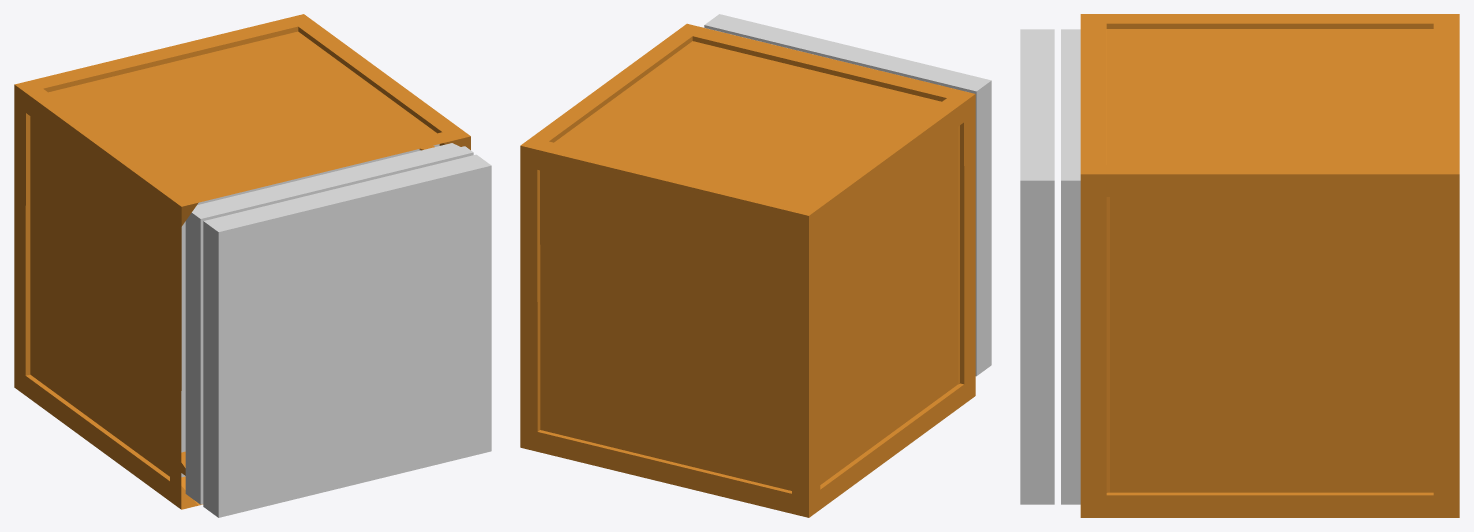
File: glas.gltf
The picture shows the model from 3 angles, left to right: view 1: azimuth 30°, elevation 25°; view 2: azimuth 150°, elevation 25°; view 3: azimuth 270°, elevation 25°; orthographic projection. The views are drawn at different scales.
Parts seen in each view (by area): view 1: Crate, Cube.001, Cube.002, Cube.003; view 2: Crate, Cube.001; view 3: Crate, Cube.001, Cube.002.
Boxes of the visible parts, bbox=[...] form: Crate: bbox=[14, 14, 470, 509]; Cube.001: bbox=[203, 154, 491, 517]; Cube.002: bbox=[185, 143, 473, 504]; Cube.003: bbox=[181, 144, 439, 477]; Crate: bbox=[520, 23, 975, 517]; Cube.001: bbox=[704, 14, 991, 376]; Crate: bbox=[1080, 14, 1459, 517]; Cube.001: bbox=[1020, 29, 1054, 504]; Cube.002: bbox=[1061, 29, 1080, 504].
Bounding box in the file's own units: 0.3001 × 0.3001 × 0.3478.
